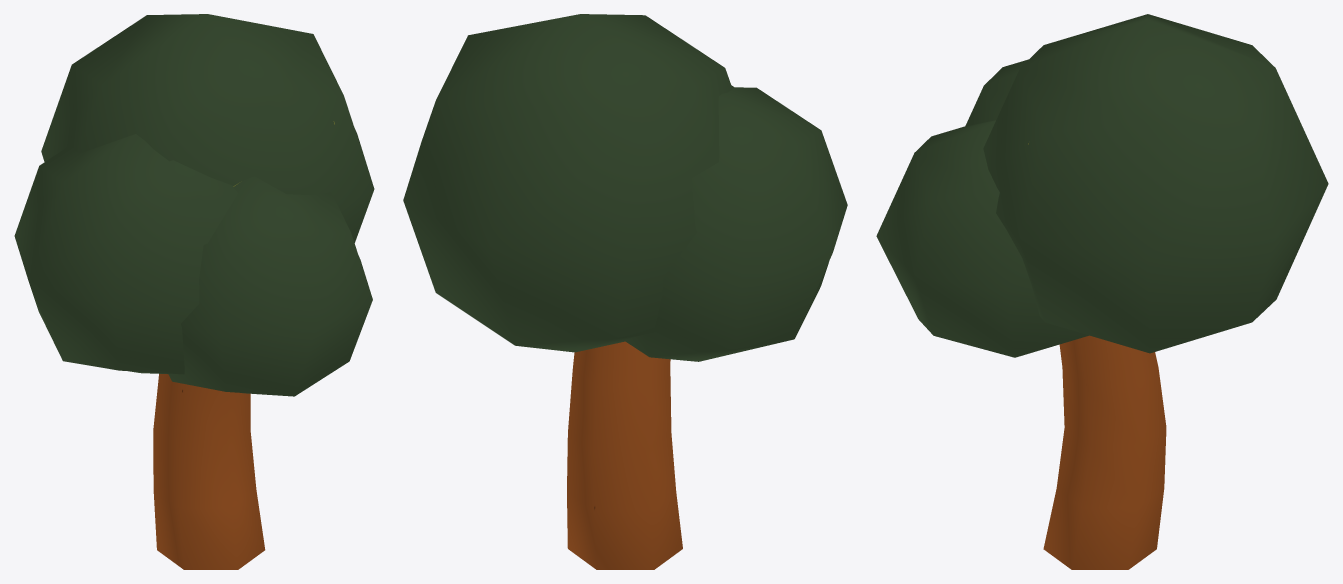
The model's file is env_tree1.glb.
The picture shows the model from 3 angles, left to right: view 1: azimuth 30°, elevation 25°; view 2: azimuth 150°, elevation 25°; view 3: azimuth 270°, elevation 25°; orthographic projection. The views are drawn at different scales.
Visible parts, largest first — view 1: tree1; view 2: tree1; view 3: tree1.
Part boxes in pixels (x1,y1,x2,y2): tree1: (14, 14, 374, 569); tree1: (403, 14, 847, 569); tree1: (876, 14, 1328, 569).
Bounding box in the file's own units: 3.66 × 5.03 × 3.83.
Materials: 1 (1 with a texture image).
